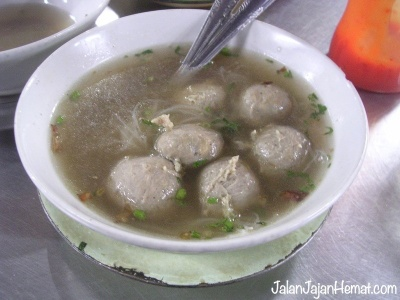bakso: (103, 72, 314, 233)
